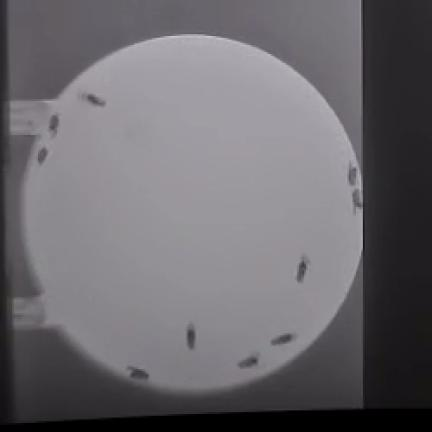fly: (80, 94, 107, 107), (296, 256, 309, 282), (239, 353, 259, 368), (272, 333, 295, 345), (49, 114, 60, 136), (187, 323, 196, 349), (348, 162, 357, 187), (128, 368, 148, 379), (353, 189, 362, 212), (39, 148, 48, 163)
